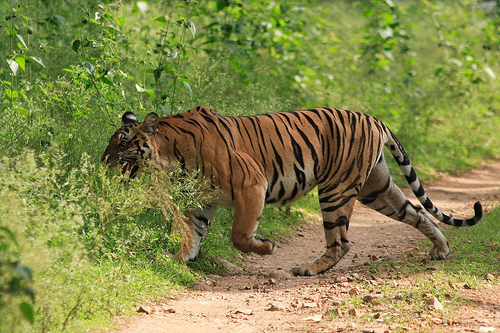Tigre: (89, 101, 463, 273)
